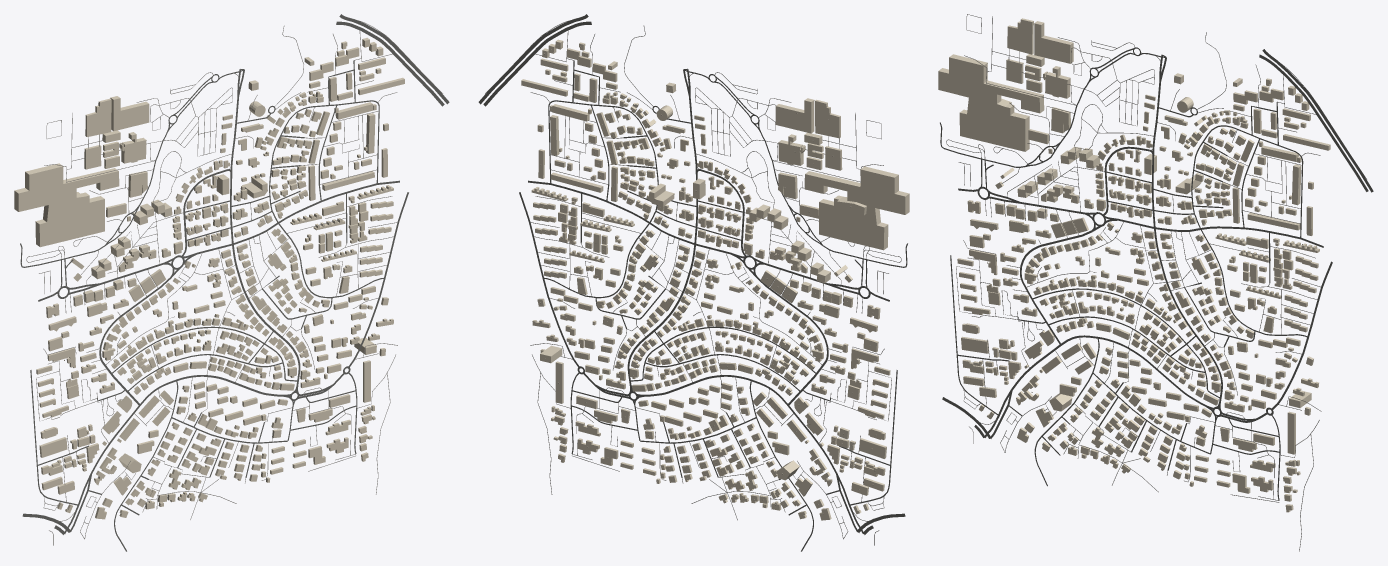
The model's file is historic-palestine-06_18_3480_3125.glb.
3 views of the same model, side by side, from view 1: azimuth 30°, elevation 25°; view 2: azimuth 150°, elevation 25°; view 3: azimuth 330°, elevation 25° (orthographic).
Visible parts, largest first — view 1: Building_.001, Building_.006, Building_, Road גוש עציון, Building_.574, Road השלום.004, Road שדרות דוד בן גוריון, Road שדרות דוד בן גוריון.001; view 2: Building_.001, Building_.006, Building_, Building_.574, Road גוש עציון, Road השלום.004, Road שדרות דוד בן גוריון.001, Road שדרות דוד בן גוריון; view 3: Building_.001, Building_.006, Building_, Building_.574, Road גוש עציון, Road שדרות דוד בן גוריון.001, Road השלום.004, Road שדרות דוד בן גוריון.
Boxes of the visible parts, <box> form: Building_.001: <box>14,163,119,247</box>; Building_.006: <box>110,96,149,131</box>; Building_: <box>85,98,111,136</box>; Road גוש עציון: <box>269,100,384,298</box>; Building_.574: <box>119,132,146,163</box>; Road השלום.004: <box>90,375,282,473</box>; Road שדרות דוד בן גוריון: <box>336,21,444,106</box>; Road שדרות דוד בן גוריון.001: <box>339,14,449,104</box>; Building_.001: <box>804,166,909,250</box>; Building_.006: <box>775,98,814,133</box>; Building_: <box>815,99,840,138</box>; Building_.574: <box>778,134,805,165</box>; Road גוש עציון: <box>543,100,658,298</box>; Road השלום.004: <box>645,375,837,473</box>; Road שדרות דוד בן גוריון.001: <box>478,14,588,104</box>; Road שדרות דוד בן גוריון: <box>483,21,591,106</box>; Building_.001: <box>938,54,1044,151</box>; Building_.006: <box>1034,21,1073,63</box>; Building_: <box>1007,18,1033,54</box>; Building_.574: <box>1043,66,1070,98</box>; Road גוש עציון: <box>1191,125,1307,337</box>; Road שדרות דוד בן גוריון.001: <box>1262,49,1373,192</box>; Road השלום.004: <box>1011,335,1205,406</box>; Road שדרות דוד בן גוריון: <box>1259,54,1368,191</box>.
Size of the model in its own units: 1196 by 1304 by 55.17.
